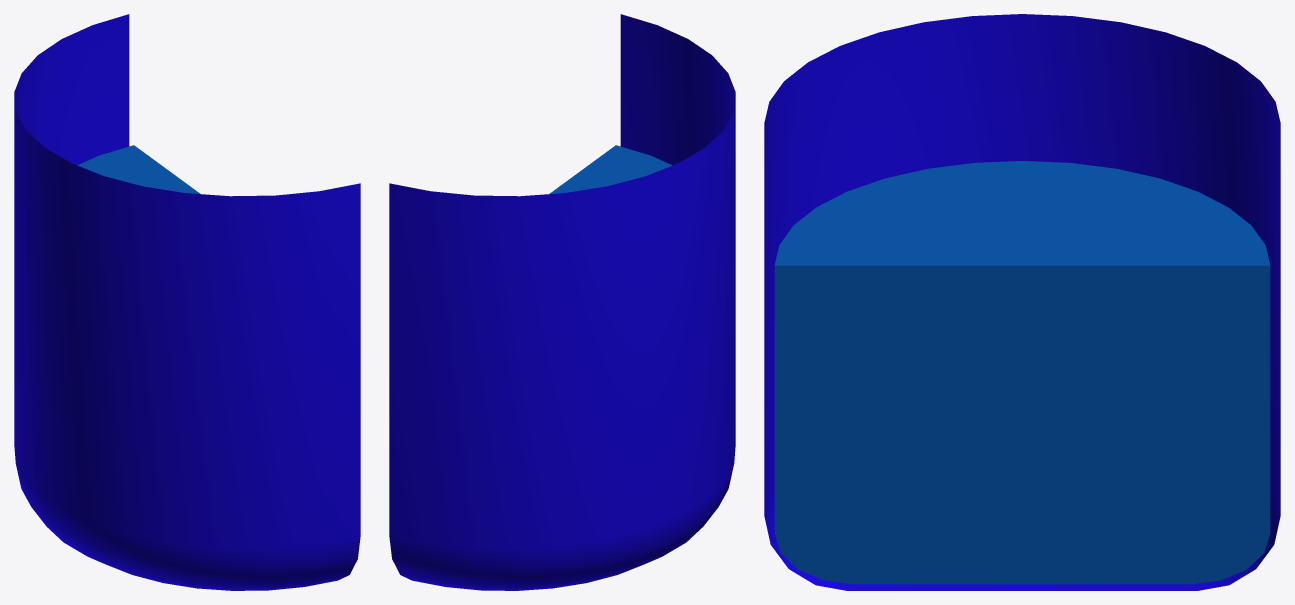
File: beaker.gltf
The picture shows the model from 3 angles, left to right: view 1: azimuth 30°, elevation 25°; view 2: azimuth 150°, elevation 25°; view 3: azimuth 270°, elevation 25°; orthographic projection. The views are drawn at different scales.
Parts seen in each view (by area): view 1: Cylinder, Cylinder.001; view 2: Cylinder, Cylinder.001; view 3: Cylinder.001, Cylinder.
Boxes of the visible parts, bbox=[...] form: Cylinder: bbox=[14, 14, 360, 590]; Cylinder.001: bbox=[77, 145, 200, 193]; Cylinder: bbox=[389, 14, 735, 590]; Cylinder.001: bbox=[549, 145, 672, 193]; Cylinder.001: bbox=[774, 161, 1270, 584]; Cylinder: bbox=[764, 14, 1280, 590].
Bounding box in the file's own units: 1 × 2 × 2.
